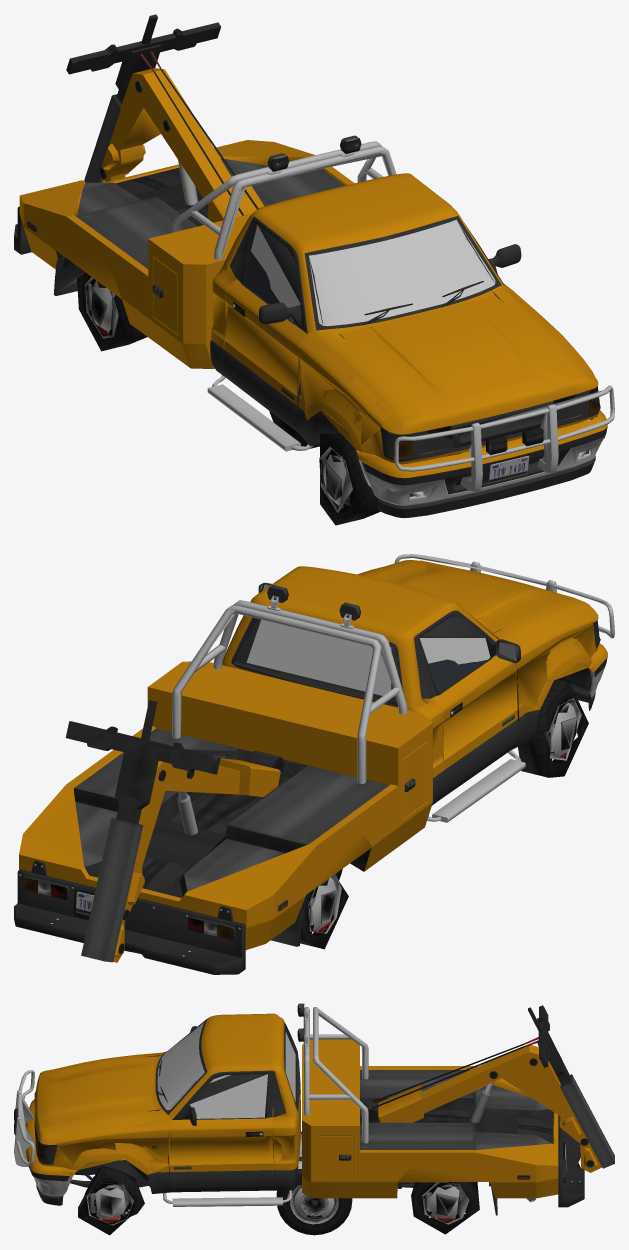
File: tow.glb
3 views of the same model, one above another, from view 1: azimuth 30°, elevation 25°; view 2: azimuth 150°, elevation 25°; view 3: azimuth 270°, elevation 25° (orthographic). The views are drawn at different scales.
Visible parts, largest first — view 1: kit0, far, kit1, glass1, glass0; view 2: kit0, far, kit1, glass1, glass0; view 3: kit0, far, kit1, glass1, glass0, wheel0, wheel1.
Part boxes in pixels (bbox=[...]): kit0: bbox=[14, 26, 614, 518]; far: bbox=[25, 14, 602, 525]; kit1: bbox=[20, 17, 614, 510]; glass1: bbox=[251, 225, 493, 325]; glass0: bbox=[264, 219, 495, 326]; kit0: bbox=[14, 554, 614, 974]; far: bbox=[29, 556, 599, 961]; kit1: bbox=[14, 555, 610, 974]; glass1: bbox=[246, 619, 490, 695]; glass0: bbox=[280, 625, 489, 664]; kit0: bbox=[14, 1003, 614, 1215]; far: bbox=[16, 1005, 614, 1235]; kit1: bbox=[19, 1009, 603, 1213]; glass1: bbox=[157, 1026, 295, 1117]; glass0: bbox=[157, 1021, 290, 1118]; wheel0: bbox=[276, 1185, 352, 1235]; wheel1: bbox=[283, 1185, 344, 1234].
Bounding box in the file's own units: 2 × 2.33 × 5.66.
Materials: 1 (1 with a texture image).
